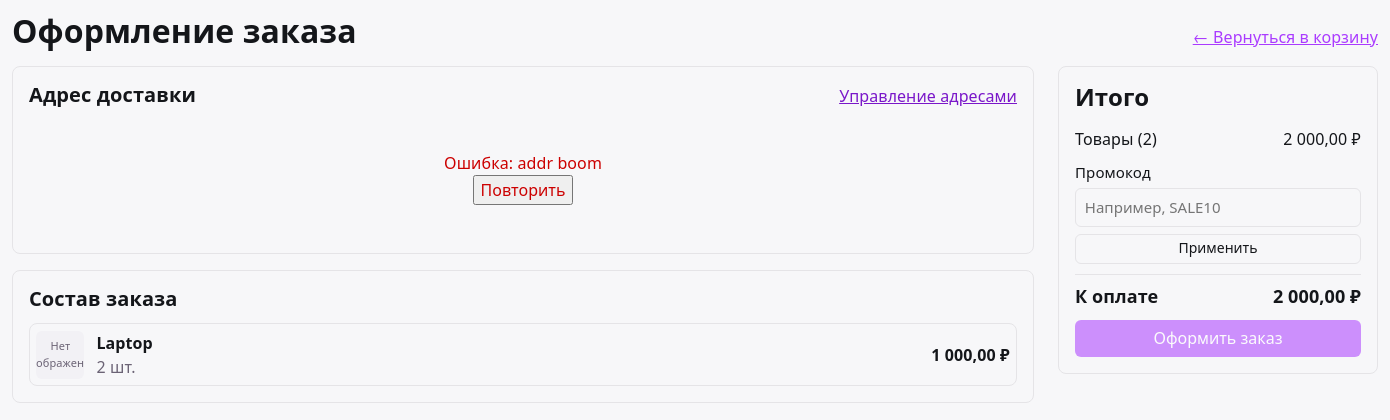
Scenario: CheckoutPage › ошибка загрузки адресов → retry перезапрашивает список
Expected: the text "Ошибка: addr boom" is shown, [444,152,602,174]
Click the button "Повторить". click: x=523, y=190
box: [472,175,574,205]
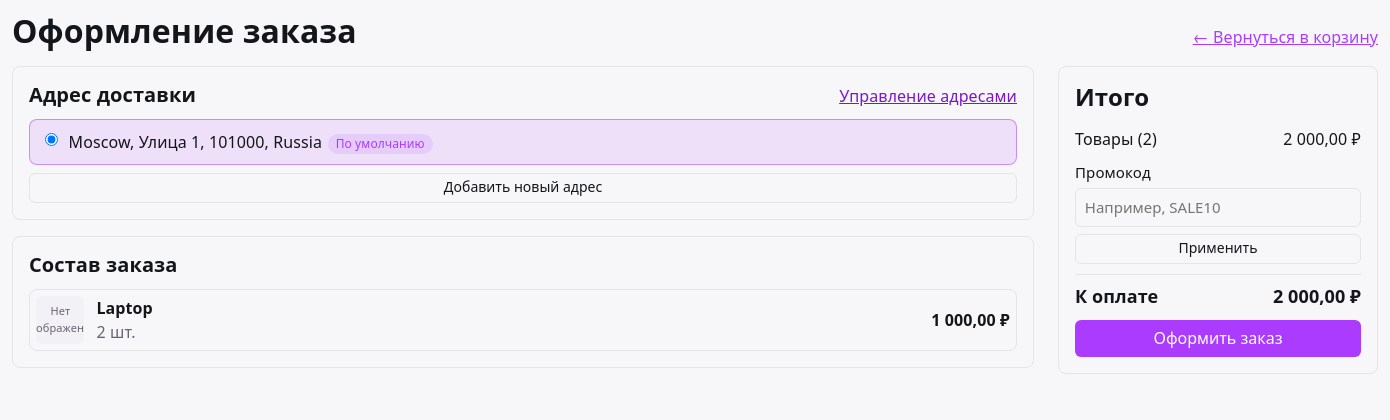
Result: the text "Moscow, Улица 1, 101000, Russia По умолчанию" is shown at [69,130,433,154]
